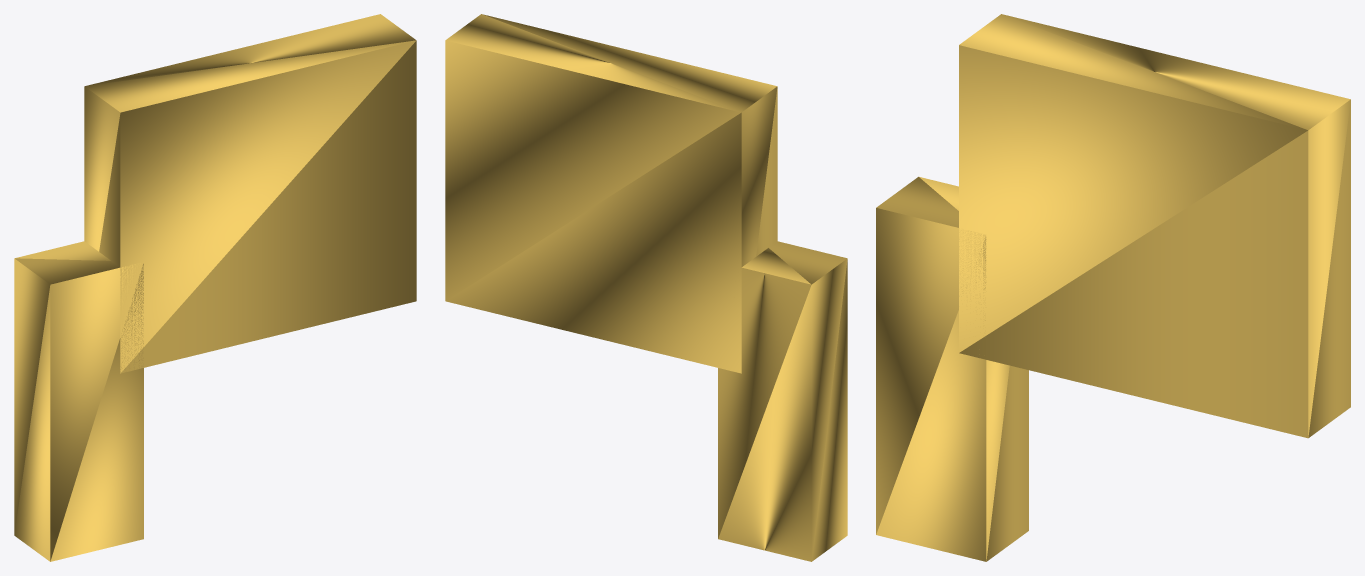
The model's file is thumbdown.glb.
The picture shows the model from 3 angles, left to right: view 1: azimuth 30°, elevation 25°; view 2: azimuth 150°, elevation 25°; view 3: azimuth 330°, elevation 25°; orthographic projection. The views are drawn at different scales.
Visible parts, largest first — view 1: thumbdown; view 2: thumbdown; view 3: thumbdown.
Boxes of the visible parts, bbox=[...] form: thumbdown: bbox=[14, 14, 416, 561]; thumbdown: bbox=[445, 14, 847, 561]; thumbdown: bbox=[876, 14, 1350, 561].
Bounding box in the file's own units: 0.47 × 0.53 × 0.08.
